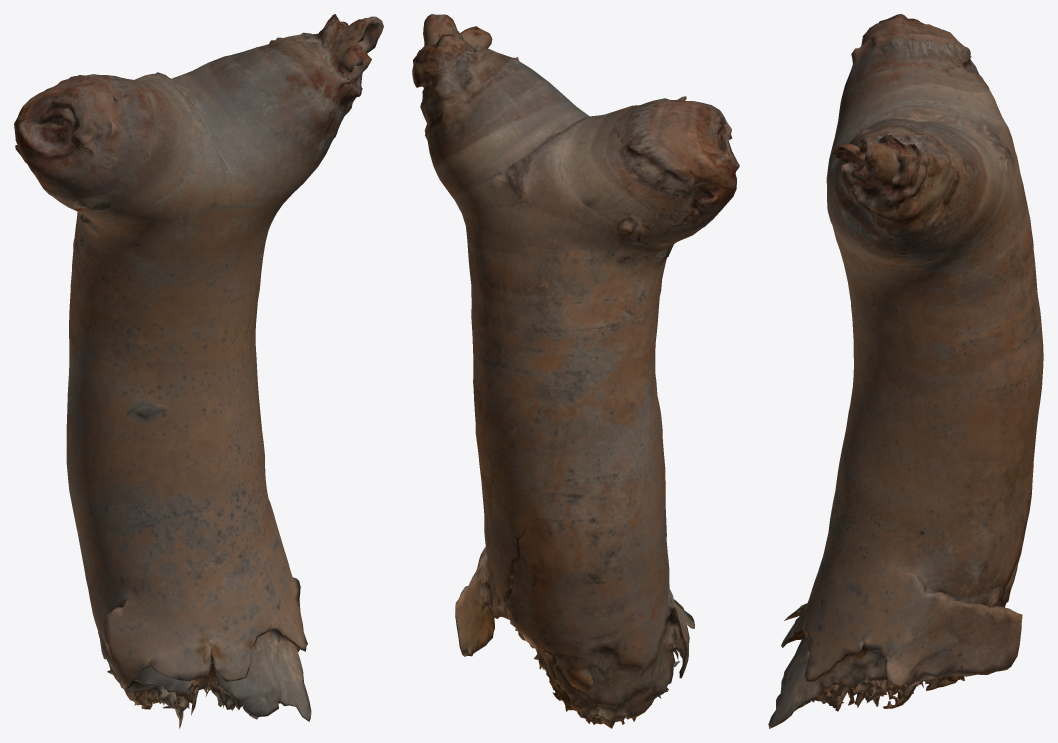
File: dead_quiver_branch_02_1k.gltf
3 views of the same model, side by side, from view 1: azimuth 30°, elevation 25°; view 2: azimuth 150°, elevation 25°; view 3: azimuth 270°, elevation 25° (orthographic).
Visible parts, largest first — view 1: dead_quiver_branch_02; view 2: dead_quiver_branch_02; view 3: dead_quiver_branch_02.
Boxes of the visible parts, box(x1,y1,x2,y2) form: dead_quiver_branch_02: box(14, 14, 383, 728); dead_quiver_branch_02: box(412, 14, 739, 728); dead_quiver_branch_02: box(768, 14, 1043, 728).
Bounding box in the file's own units: 0.2873 × 0.5264 × 0.201.
Materials: 1 (1 with a texture image).
